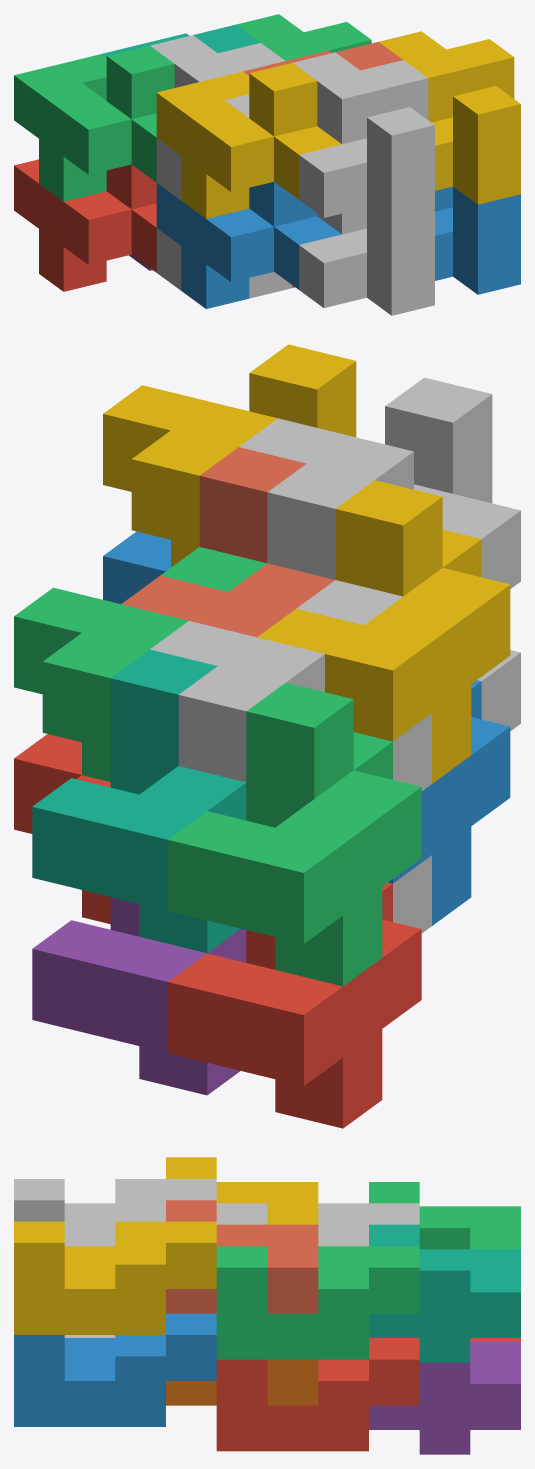
The model's file is tiling.obj.
3 renders of one model, top to bottom at view 1: azimuth 30°, elevation 25°; view 2: azimuth 150°, elevation 25°; view 3: azimuth 270°, elevation 25°, orthographic. The views are drawn at different scales.
Parts seen in each view (by area): view 1: copy_2_domain_4, copy_1_domain_4, copy_1_domain_3, copy_2_domain_8, copy_1_domain_2, copy_1_domain_1, copy_2_domain_2, copy_2_domain_6, copy_2_domain_3, copy_2_domain_7, copy_2_domain_1, copy_1_domain_7 (+1 smaller); view 2: copy_1_domain_3, copy_1_domain_4, copy_1_domain_1, copy_1_domain_7, copy_2_domain_4, copy_2_domain_8, copy_1_domain_5, copy_2_domain_7, copy_2_domain_3, copy_1_domain_8, copy_1_domain_2, copy_2_domain_5 (+3 smaller); view 3: copy_2_domain_8, copy_2_domain_7, copy_2_domain_6, copy_2_domain_5, copy_1_domain_7, copy_1_domain_5, copy_1_domain_8, copy_2_domain_4, copy_1_domain_3, copy_2_domain_3, copy_1_domain_4, copy_1_domain_6.
Part boxes in pixels (x1,y1,x2,y2): copy_2_domain_4: [292, 52, 434, 225]; copy_1_domain_4: [156, 63, 341, 218]; copy_1_domain_3: [14, 45, 174, 201]; copy_2_domain_8: [378, 31, 520, 204]; copy_1_domain_2: [156, 182, 341, 308]; copy_1_domain_1: [14, 159, 156, 291]; copy_2_domain_2: [299, 207, 434, 315]; copy_2_domain_6: [435, 186, 520, 294]; copy_2_domain_3: [150, 35, 284, 200]; copy_2_domain_7: [236, 14, 371, 60]; copy_2_domain_1: [156, 228, 292, 298]; copy_1_domain_7: [100, 24, 260, 58]; copy_1_domain_3: [168, 682, 421, 986]; copy_1_domain_4: [257, 480, 510, 783]; copy_1_domain_1: [168, 882, 421, 1128]; copy_1_domain_7: [32, 649, 246, 953]; copy_2_domain_4: [239, 377, 520, 588]; copy_2_domain_8: [103, 344, 356, 567]; copy_1_domain_5: [32, 897, 246, 1095]; copy_2_domain_7: [14, 547, 266, 781]; copy_2_domain_3: [150, 580, 431, 790]; copy_1_domain_8: [121, 447, 334, 637]; copy_1_domain_2: [388, 680, 510, 925]; copy_2_domain_5: [14, 734, 110, 924]; copy_2_domain_8: [14, 1221, 216, 1334]; copy_2_domain_7: [216, 1246, 419, 1359]; copy_2_domain_6: [14, 1313, 216, 1426]; copy_2_domain_5: [216, 1338, 419, 1451]; copy_1_domain_7: [369, 1224, 520, 1362]; copy_1_domain_5: [369, 1341, 520, 1454]; copy_1_domain_8: [166, 1200, 318, 1313]; copy_2_domain_4: [14, 1179, 216, 1246]; copy_1_domain_3: [369, 1182, 520, 1249]; copy_2_domain_3: [216, 1203, 419, 1246]; copy_1_domain_4: [166, 1157, 318, 1224]; copy_1_domain_6: [166, 1359, 318, 1405].
Bounding box in the file's own units: 7 × 6 × 10.
